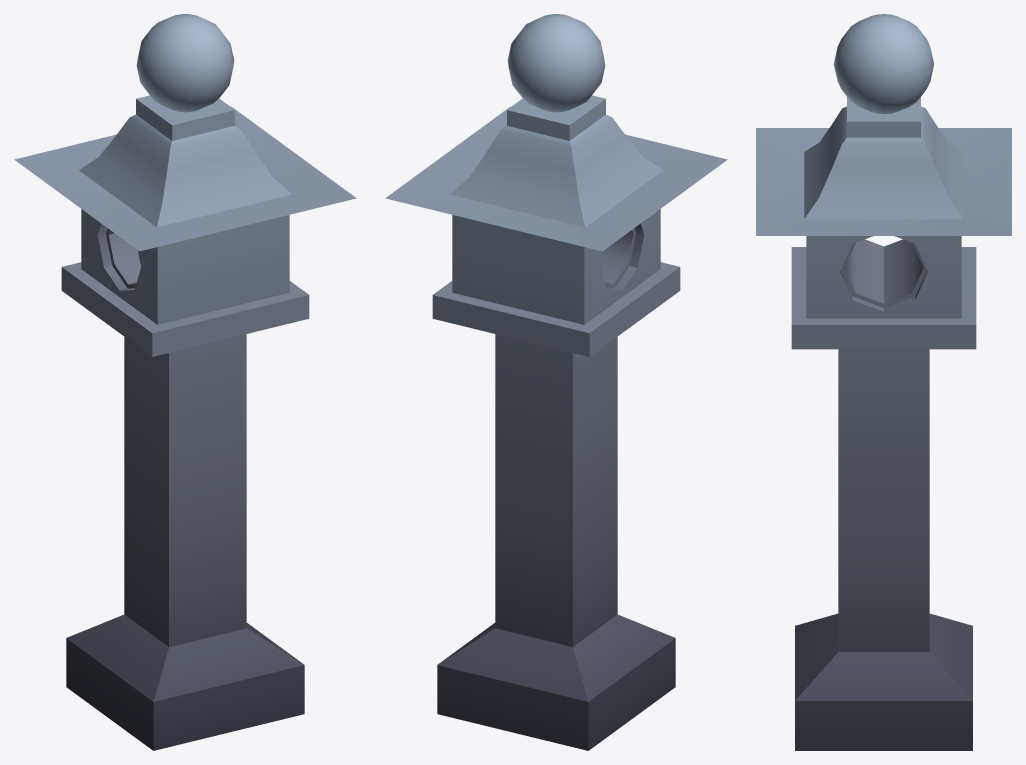
File: SM_StonePost.fbx
3 renders of one model, left to right at view 1: azimuth 30°, elevation 25°; view 2: azimuth 150°, elevation 25°; view 3: azimuth 270°, elevation 25°, orthographic.
Parts seen in each view (by area): view 1: Cube.011; view 2: Cube.011; view 3: Cube.011.
Boxes of the visible parts, x1=… form: Cube.011: x1=14, y1=14, x2=356, y2=750; Cube.011: x1=385, y1=14, x2=727, y2=750; Cube.011: x1=756, y1=14, x2=1011, y2=750.
Bounding box in the file's own units: 61.04 × 183 × 61.04.
